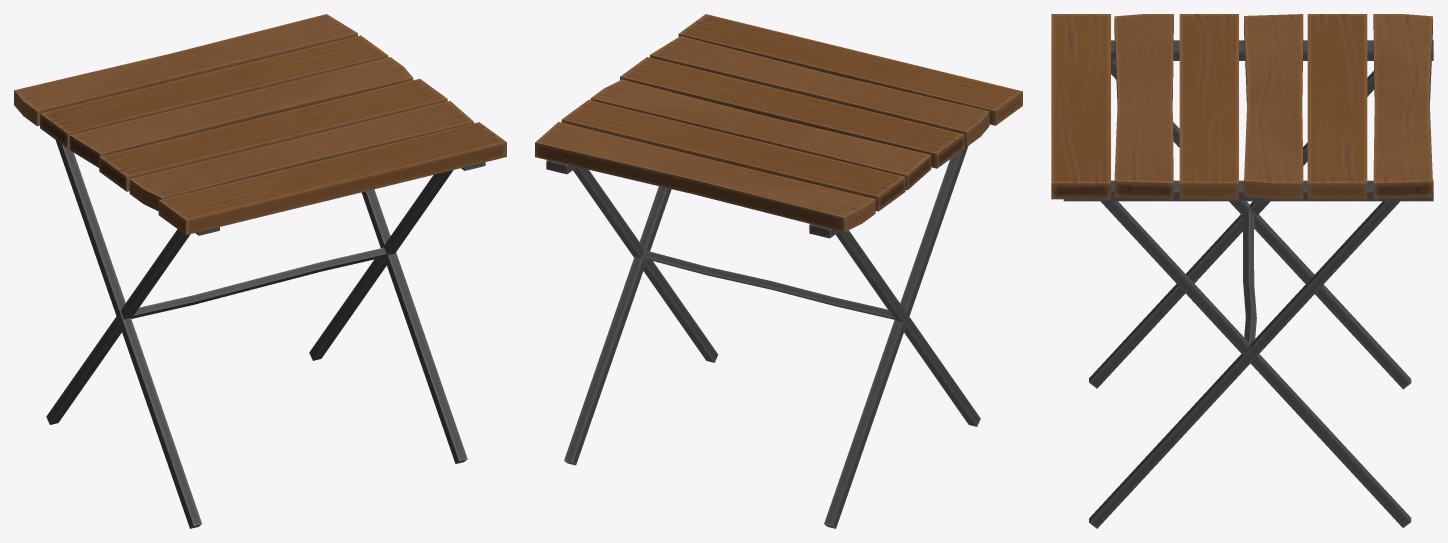
File: SM_Props_Table_01.glb
3 views of the same model, side by side, from view 1: azimuth 30°, elevation 25°; view 2: azimuth 150°, elevation 25°; view 3: azimuth 270°, elevation 25° (orthographic). The views are drawn at different scales.
Visible parts, largest first — view 1: SM_Props_Table_01; view 2: SM_Props_Table_01; view 3: SM_Props_Table_01.
Boxes of the visible parts, x1,y1,x2,y2 form: SM_Props_Table_01: (14,14,506,528); SM_Props_Table_01: (535,14,1022,528); SM_Props_Table_01: (1051,14,1433,528).
Bounding box in the file's own units: 0.8117 × 0.7984 × 0.7741.
1 material, 1 textured.
